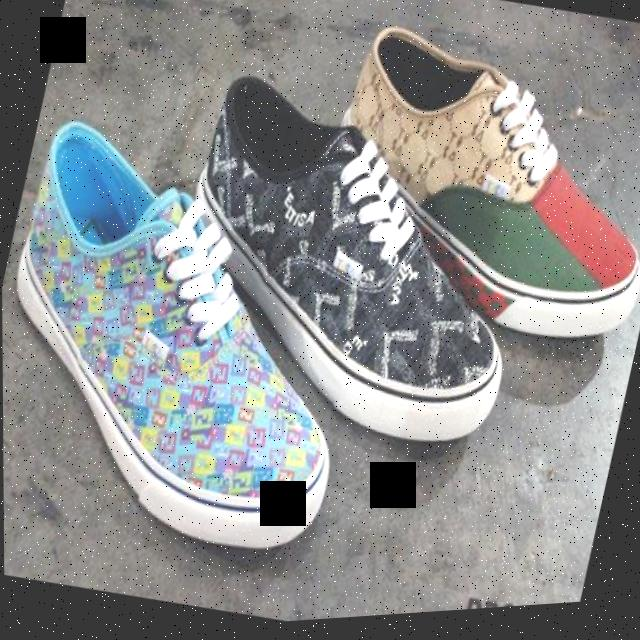shoes: (1, 82, 405, 589), (139, 40, 566, 484), (297, 7, 640, 382)
